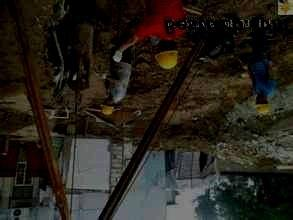helmet: (153, 41, 179, 69), (252, 95, 271, 114), (100, 96, 115, 115)
